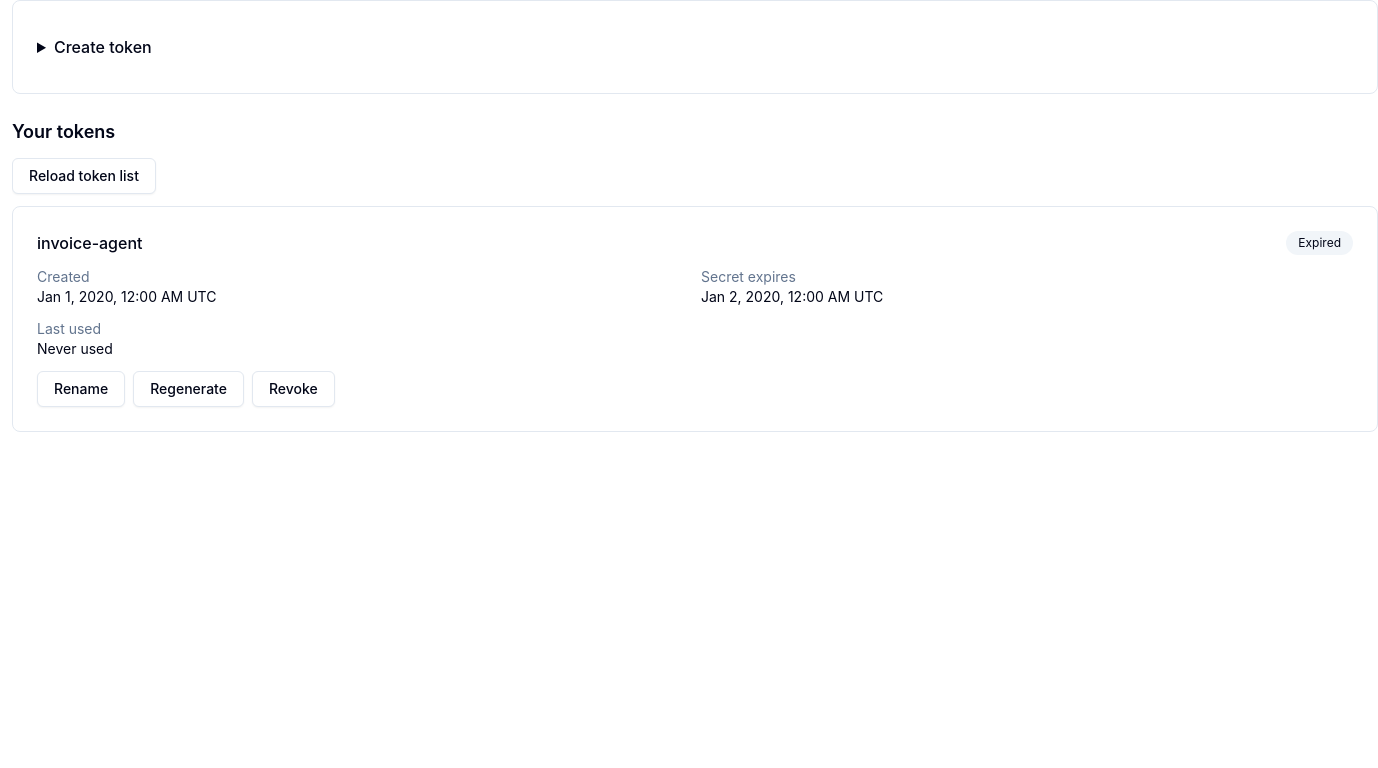
Test: delegation management interaction › Revoke handles offline immediately without polling
Click the button "Revoke" at (293, 389), box [252,371,335,407]
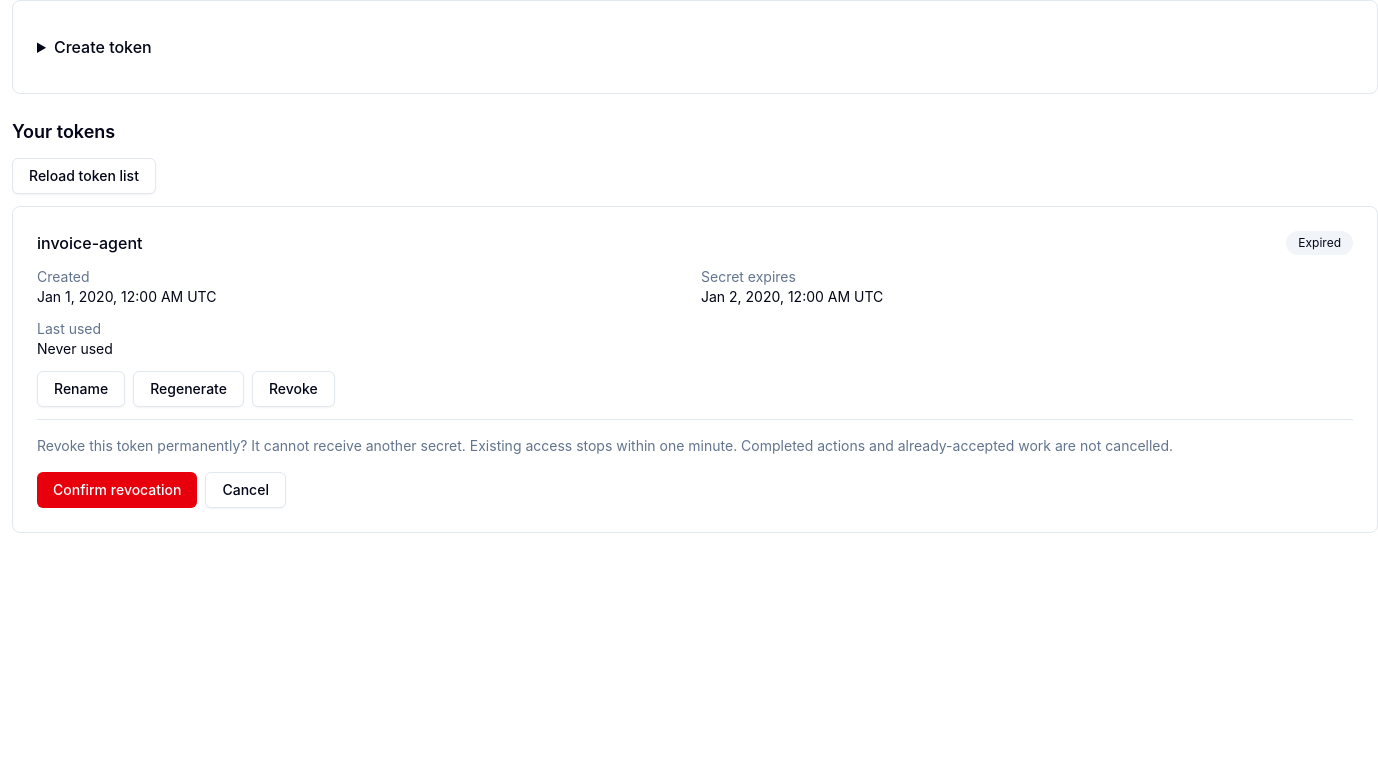
Submit the form, box [37,419,1353,508]
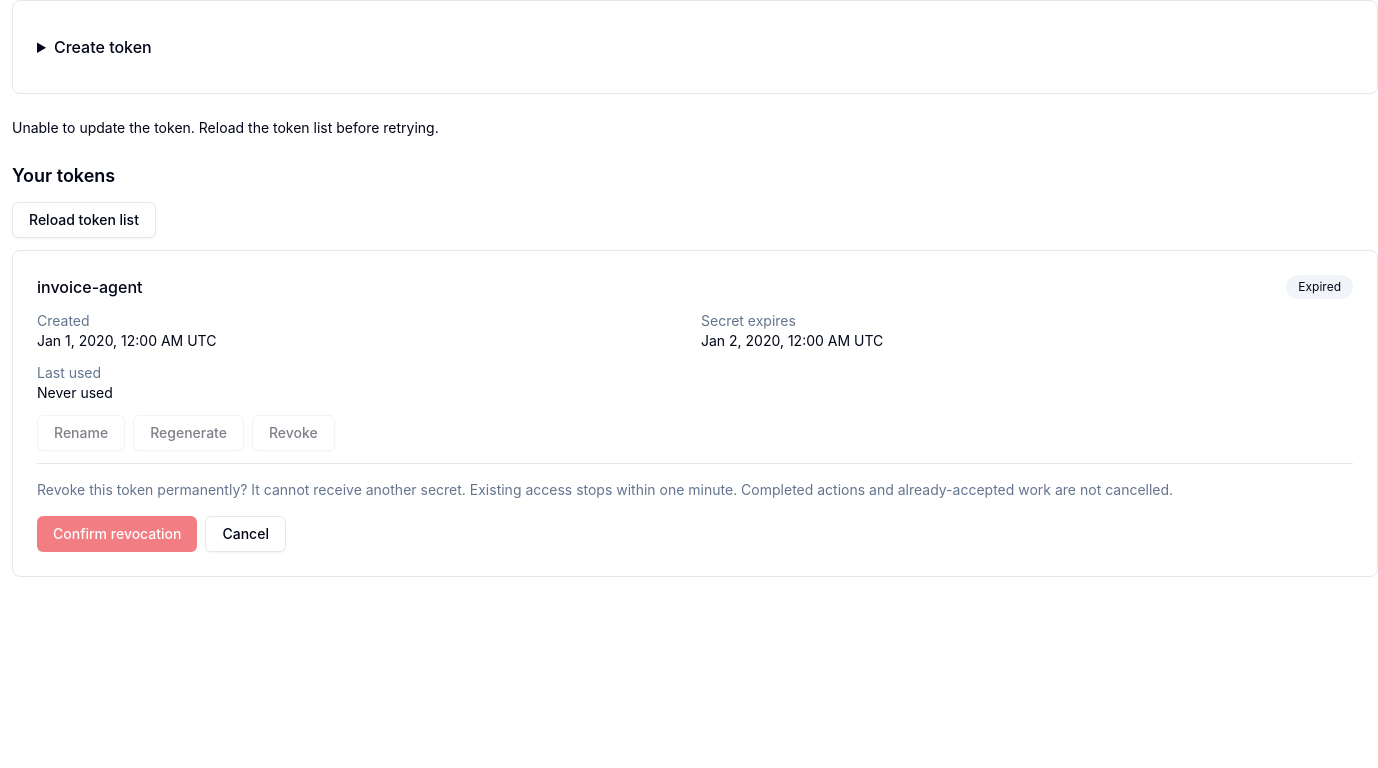
Result: the form is shown at [37,463,1353,552]
Result: the button "Confirm revocation" is disabled at [37,516,198,552]
